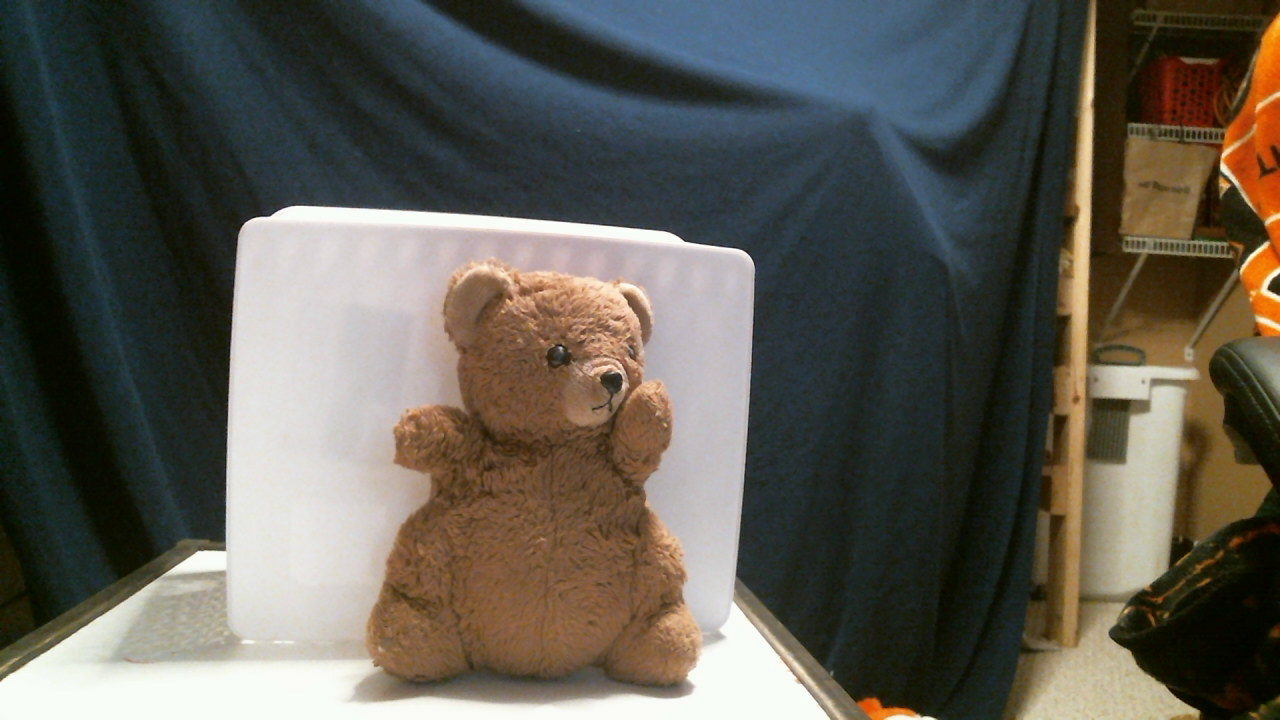Little_Mister_Bear: (533, 335, 653, 444)
